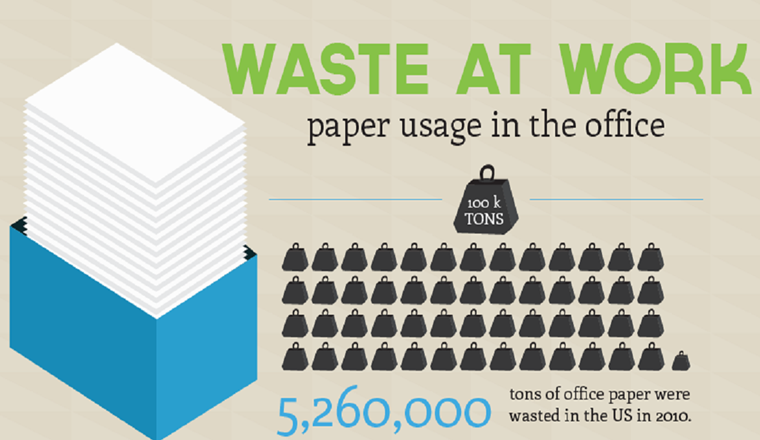paper: (16, 34, 266, 193)
